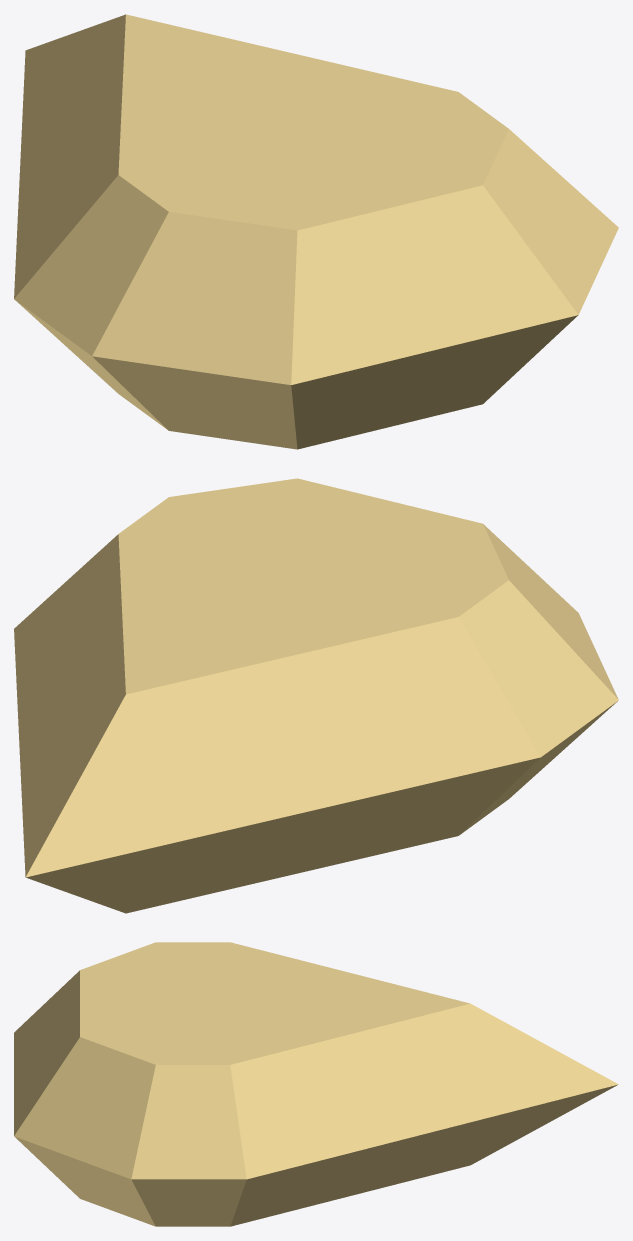
File: GemBlood.fbx
3 renders of one model, top to bottom at view 1: azimuth 30°, elevation 25°; view 2: azimuth 150°, elevation 25°; view 3: azimuth 270°, elevation 25°, orthographic. The views are drawn at different scales.
Parts seen in each view (by area): view 1: GemBlood.001; view 2: GemBlood.001; view 3: GemBlood.001.
Part boxes in pixels (x1,y1,x2,y2): GemBlood.001: (14, 14, 618, 449); GemBlood.001: (14, 478, 618, 913); GemBlood.001: (14, 942, 618, 1226).
Bounding box in the file's own units: 27.17 × 10.79 × 36.57.
